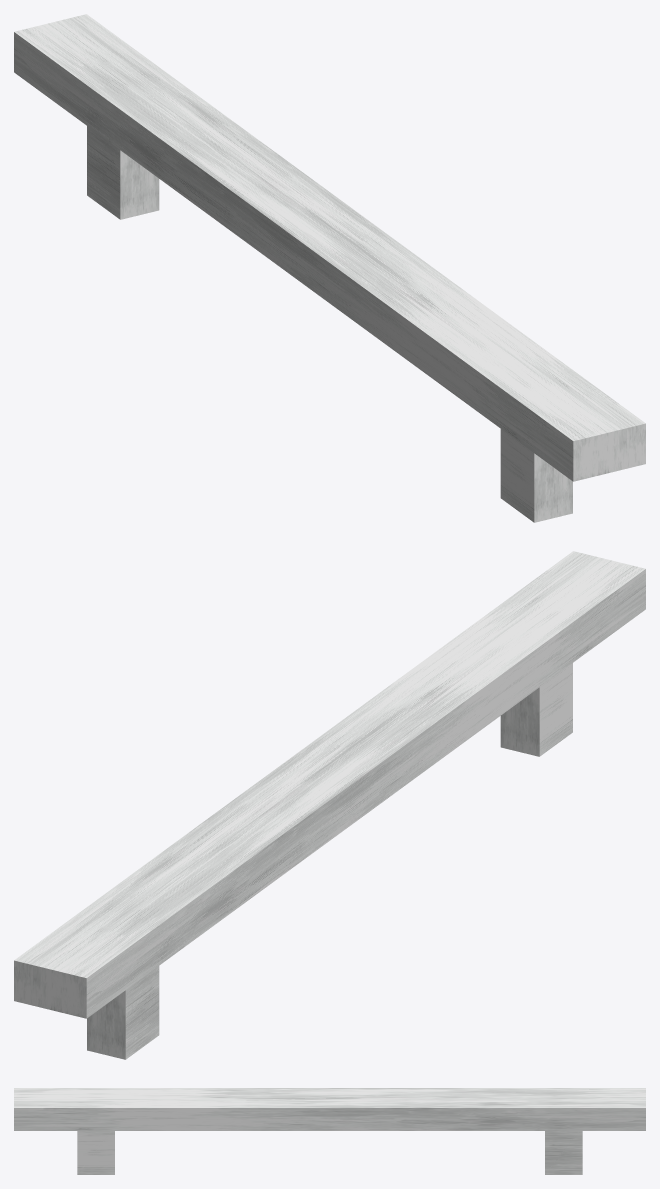
The model's file is handle_v_2.glb.
3 renders of one model, top to bottom at view 1: azimuth 30°, elevation 25°; view 2: azimuth 150°, elevation 25°; view 3: azimuth 270°, elevation 25°, orthographic. The views are drawn at different scales.
Visible parts, largest first — view 1: world; view 2: world; view 3: world.
Boxes of the visible parts, x1=… form: world: x1=14, y1=14, x2=645, y2=522; world: x1=14, y1=551, x2=645, y2=1059; world: x1=14, y1=1088, x2=645, y2=1174.
Size of the model in its own units: 15 by 25 by 200.
Materials: 1 (1 with a texture image).
